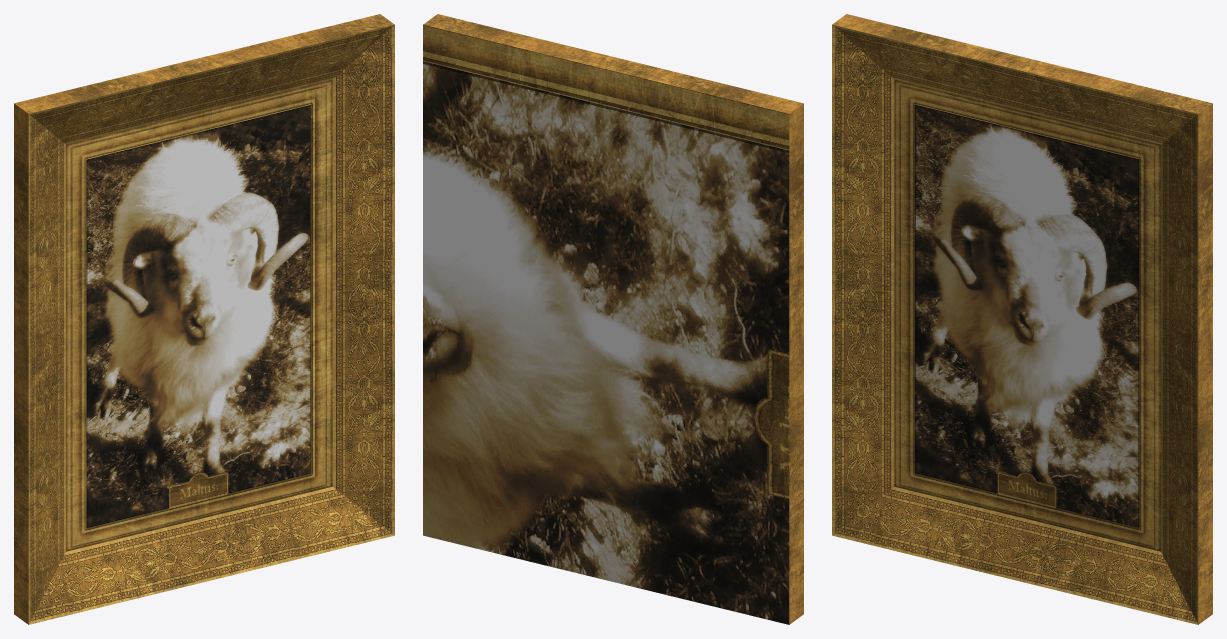
File: maltus.DAE
3 views of the same model, side by side, from view 1: azimuth 30°, elevation 25°; view 2: azimuth 150°, elevation 25°; view 3: azimuth 330°, elevation 25° (orthographic).
Parts seen in each view (by area): view 1: Box001; view 2: Box001; view 3: Box001.
Part boxes in pixels (x1,y1,x2,y2): Box001: [14, 14, 394, 624]; Box001: [423, 14, 803, 624]; Box001: [832, 14, 1212, 624].
Bounding box in the file's own units: 0.75 × 1 × 0.0516.
